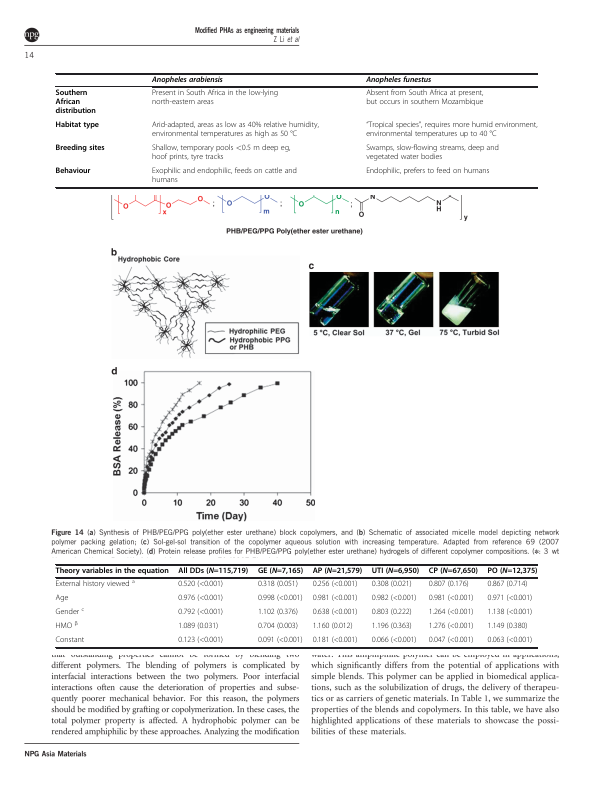borderless: (54, 72, 537, 187), (54, 563, 537, 647)
cell: (365, 121, 538, 140), (151, 121, 320, 140), (151, 167, 298, 186), (151, 144, 291, 163), (365, 144, 500, 163), (151, 89, 279, 108), (365, 89, 484, 108), (365, 167, 490, 177), (54, 89, 97, 117), (55, 567, 170, 576), (54, 578, 136, 590), (151, 76, 224, 85), (177, 567, 249, 576), (365, 76, 432, 85), (54, 144, 106, 154), (177, 580, 224, 590), (177, 594, 224, 604), (486, 594, 533, 604), (177, 608, 224, 618), (486, 608, 533, 618), (177, 636, 224, 646), (486, 636, 533, 646), (486, 567, 538, 576), (54, 121, 100, 131), (312, 580, 358, 590), (257, 594, 303, 604), (312, 594, 358, 604), (371, 594, 417, 604), (428, 594, 474, 604), (312, 608, 358, 618), (428, 608, 474, 618), (428, 622, 474, 632), (257, 636, 303, 646), (312, 636, 358, 646), (371, 636, 417, 646), (428, 636, 474, 646), (312, 567, 363, 576), (428, 567, 479, 576), (371, 567, 420, 576), (257, 567, 304, 576), (257, 580, 299, 590), (371, 580, 413, 590), (428, 580, 470, 590), (486, 580, 528, 590), (257, 608, 299, 618), (371, 608, 413, 618), (177, 622, 219, 632), (257, 622, 299, 632), (371, 622, 413, 632), (486, 622, 528, 632), (312, 622, 353, 632), (54, 167, 91, 177), (55, 606, 85, 618), (55, 636, 85, 646), (55, 620, 79, 632), (55, 594, 69, 604)
